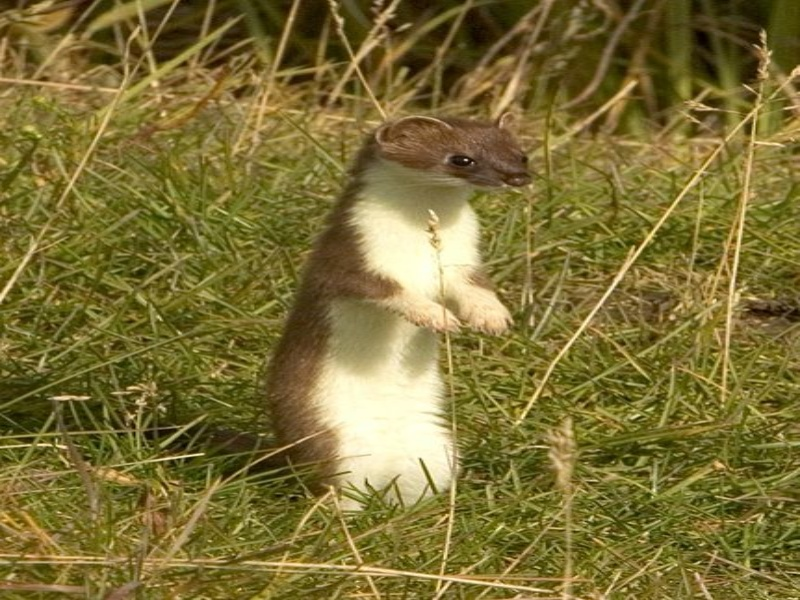minkish: (230, 108, 535, 521)
